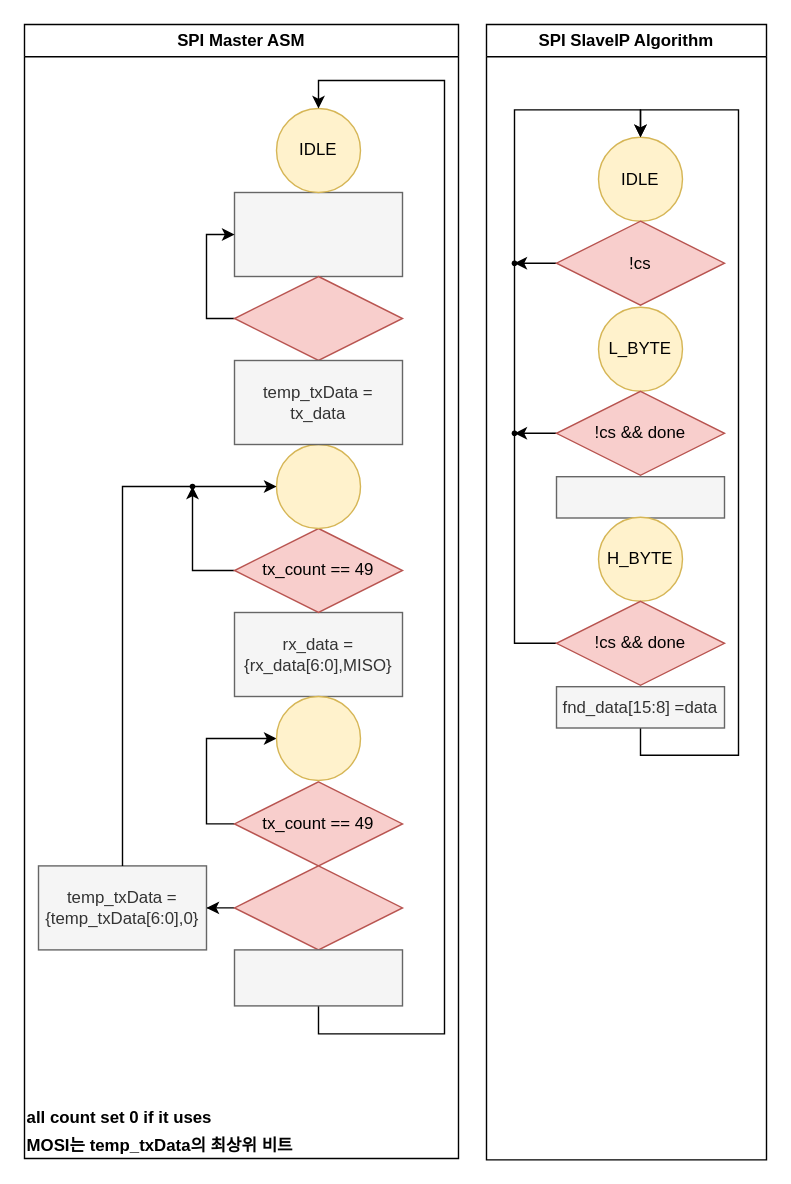
Some shapes in this 791 by 1184 pixel diagram are drawn without their labels. Here are the shapes that lost their labels. From the top down, the centre of each, then its label:
At point (317, 233): "temp_txData = z done =0 ready = 1".
At point (317, 317): "start == 1".
At point (317, 485): "CP0".
At point (639, 496): "fnd_data[7:0] =data".
At point (317, 737): "CP1".
At point (317, 907): "bit_count == 7".
At point (317, 977): "done = 1".
